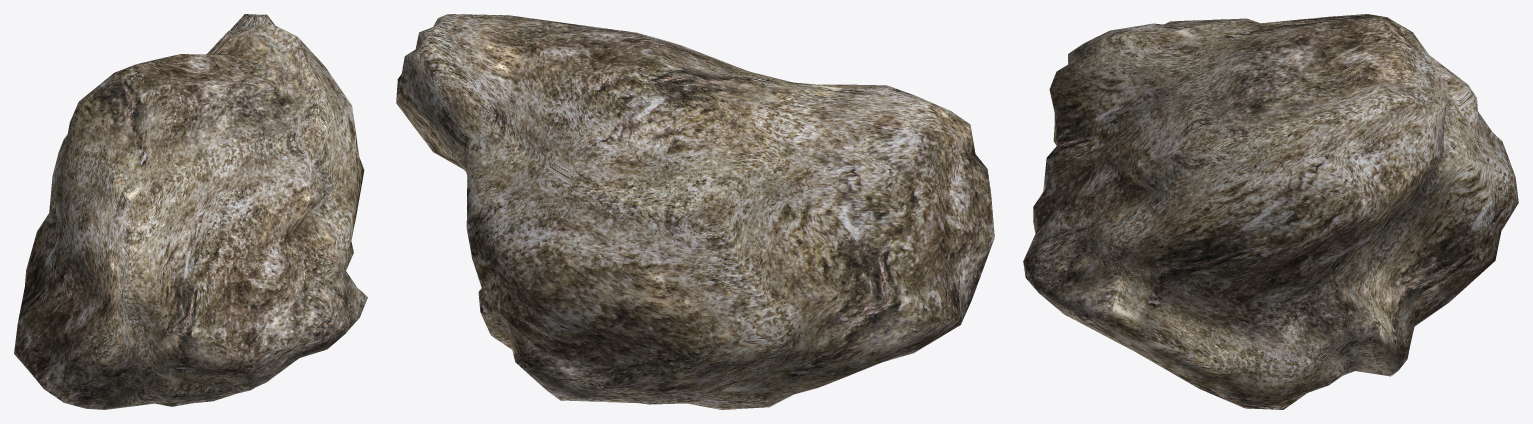
The model's file is Asteroid_11_L1.FBX.
3 views of the same model, side by side, from view 1: azimuth 30°, elevation 25°; view 2: azimuth 150°, elevation 25°; view 3: azimuth 270°, elevation 25° (orthographic). The views are drawn at different scales.
Visible parts, largest first — view 1: rock; view 2: rock; view 3: rock.
Boxes of the visible parts, left/top/right/bottom form: rock: left=14, top=14, right=367, bottom=409; rock: left=396, top=14, right=994, bottom=409; rock: left=1023, top=14, right=1518, bottom=409.
Size of the model in its own units: 2.43 by 1.86 by 2.29.
